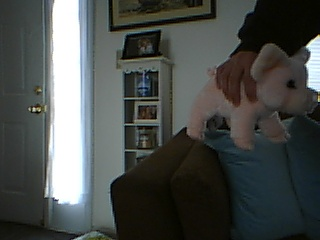piggy: (186, 43, 318, 153)
